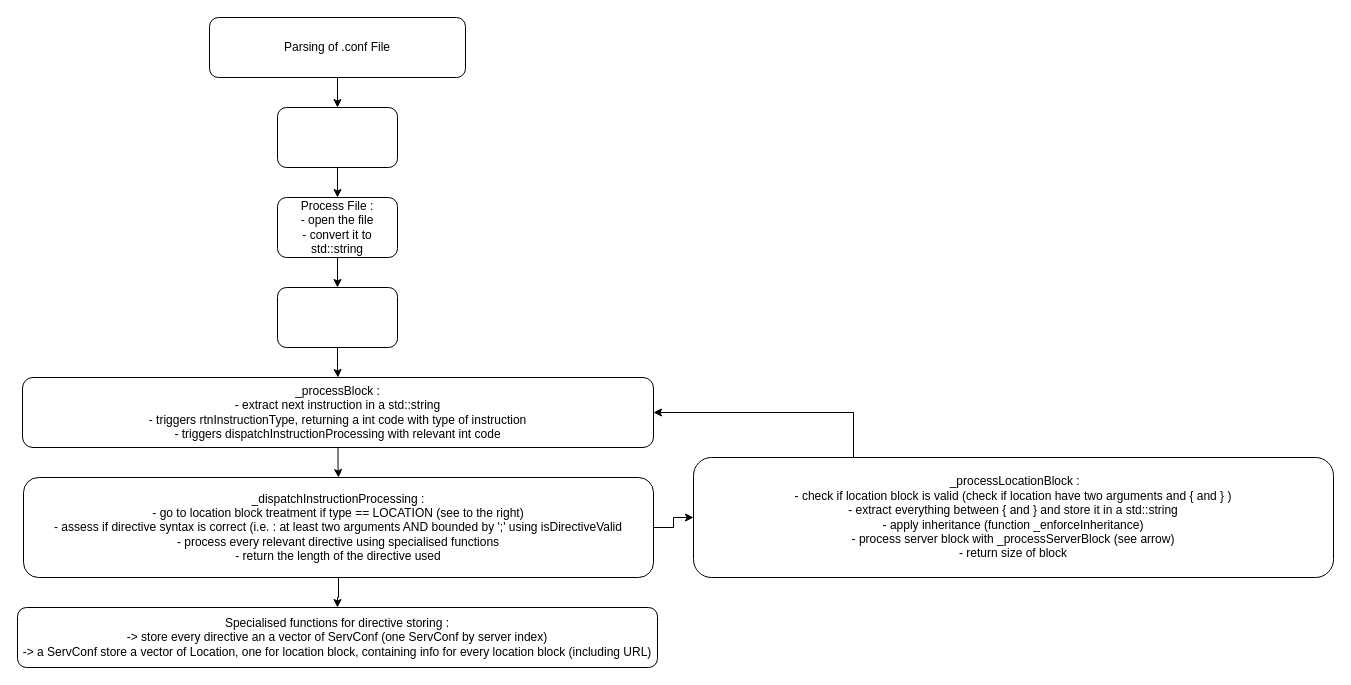
Image size: 1351x685. Some labels were removed from this diagram. Each missing label, with the centre of its shape:
"Iterate through that std::string and extract every server block" goes at pixel 337 317.
"Open File" goes at pixel 337 137.
